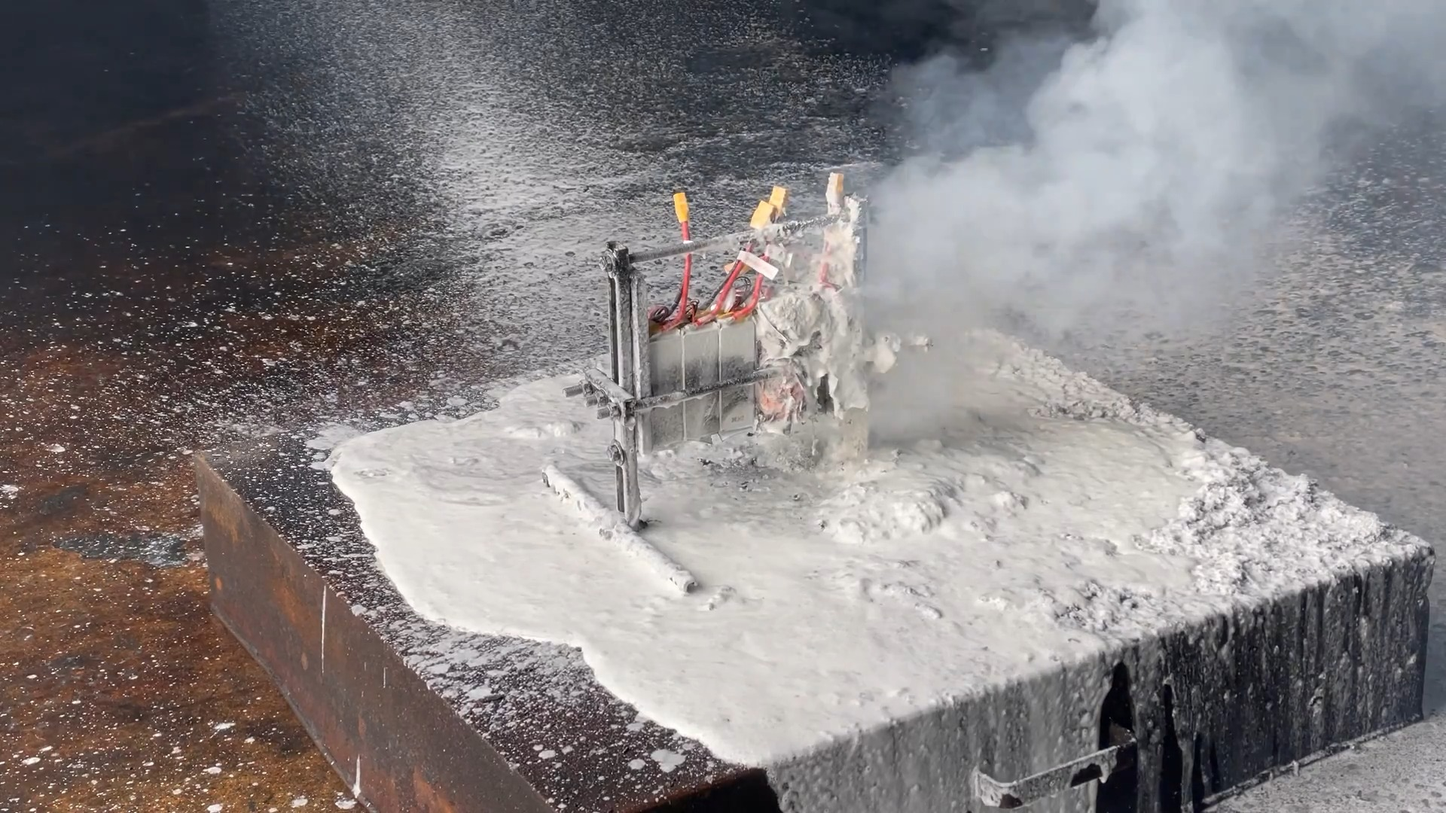smoke: (848, 0, 1432, 413)
